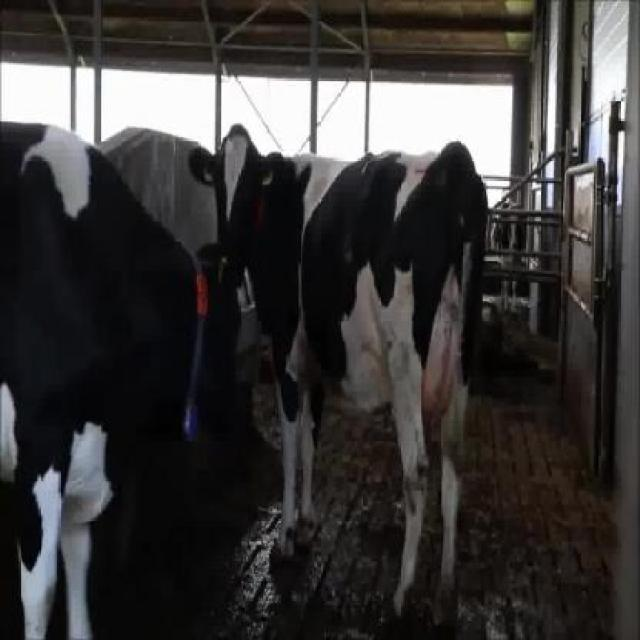Cow: (186, 120, 488, 631), (2, 120, 246, 638)
